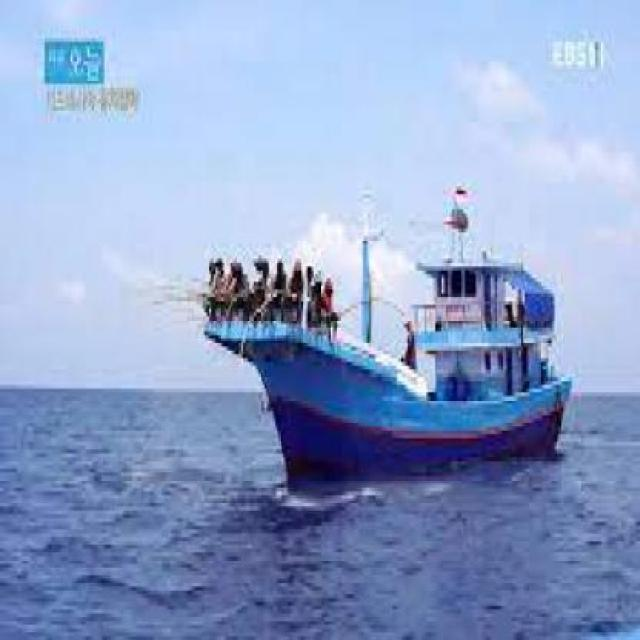fish-b: (186, 165, 588, 500)
